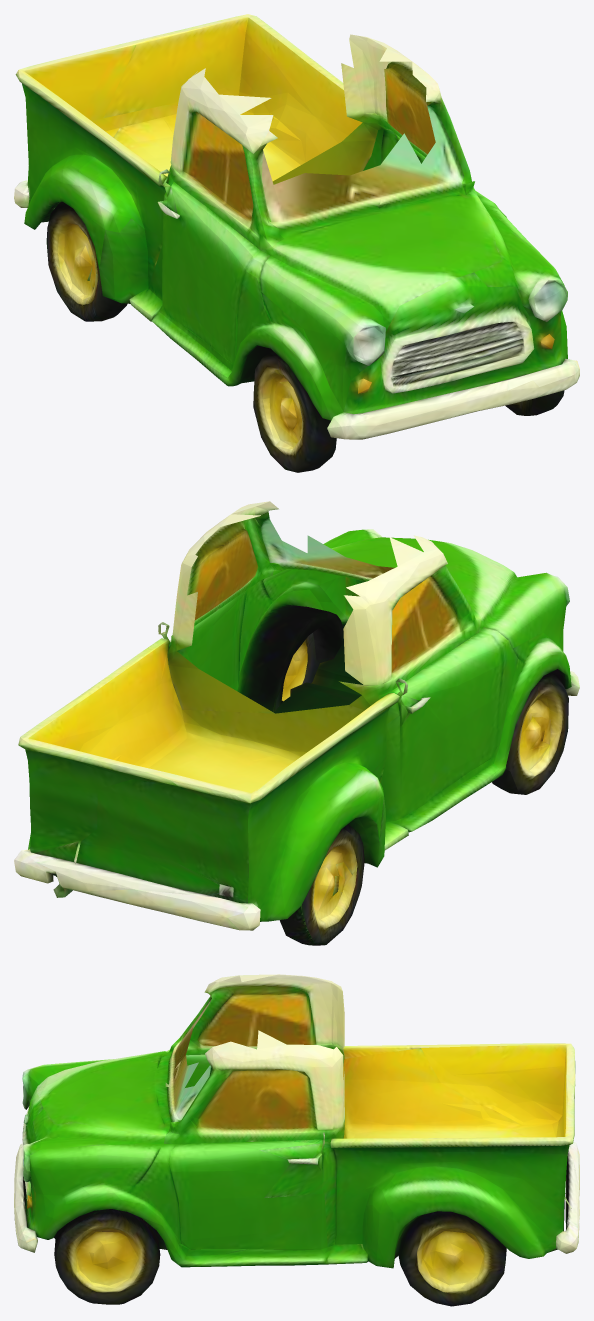
The model's file is mini-pickup.glb.
3 renders of one model, top to bottom at view 1: azimuth 30°, elevation 25°; view 2: azimuth 150°, elevation 25°; view 3: azimuth 270°, elevation 25°, orthographic. The views are drawn at different scales.
Visible parts, largest first — view 1: model; view 2: model; view 3: model.
Boxes of the visible parts, <box> form: model: <box>14,14,579,472</box>; model: <box>14,501,579,945</box>; model: <box>14,974,579,1306</box>.
Bounding box in the file's own units: 1.41 × 1.42 × 2.9.
1 material, 1 textured.
